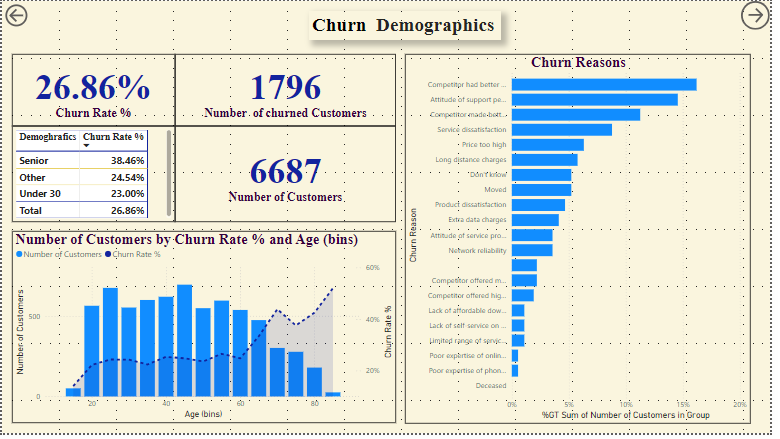

This screenshot's page, from the dashboard's own definition file:
{"tool":"powerbi","page":{"name":"Churn  Demographics","canvas":[1280,720],"ordinal":1},"visuals":[{"type":"tableEx","fields":{"Values":["Databel - Data.Demoghrafics","__Measures.Churn Rate %"]},"box":[16,208,272,160],"z":0},{"type":"card","fields":{"Values":["__Measures.Number of Customers"]},"box":[288,208,368,160],"z":1000},{"type":"card","fields":{"Values":["__Measures.Number  of churned Customers"]},"box":[288,88,368,120],"z":2000},{"type":"card","fields":{"Values":["__Measures.Churn Rate %"]},"box":[16,88,272,120],"z":3000},{"type":"clusteredBarChart","title":"Churn Reasons","fields":{"Category":["Databel - Data.Churn Reason"],"Y":["Sum(Databel - Data.Number of Customers in Group)"]},"box":[672,88,576,616],"z":4000},{"type":"lineStackedColumnComboChart","title":"Number of Customers by Churn Rate % and Age (bins)","fields":{"Category":["Databel - Data.Age (bins)"],"Y":["__Measures.Number of Customers"],"Y2":["__Measures.Churn Rate %"]},"box":[16,384,640,320],"z":5000},{"type":"actionButton","box":[1232,0,48,48],"z":6000},{"type":"actionButton","box":[0,0,64,48],"z":7000},{"type":"textbox","box":[512,16,320,48],"z":7001}]}

Visuals, with their boxes in screenshot pixels (x1, y1, x2, y2), scaled from the page's 1280x720 canvas onto the 780x439 screenshot:
tableEx - Databel - Data.Demoghrafics x __Measures.Churn Rate %: 10, 127, 176, 224
card - __Measures.Number of Customers: 176, 127, 400, 224
card - __Measures.Number  of churned Customers: 176, 54, 400, 127
card - __Measures.Churn Rate %: 10, 54, 176, 127
"Churn Reasons" clusteredBarChart: 410, 54, 760, 429
"Number of Customers by Churn Rate % and Age (bins)" lineStackedColumnComboChart: 10, 234, 400, 429
actionButton: 751, 0, 779, 29
actionButton: 0, 0, 39, 29
textbox: 312, 10, 507, 39
